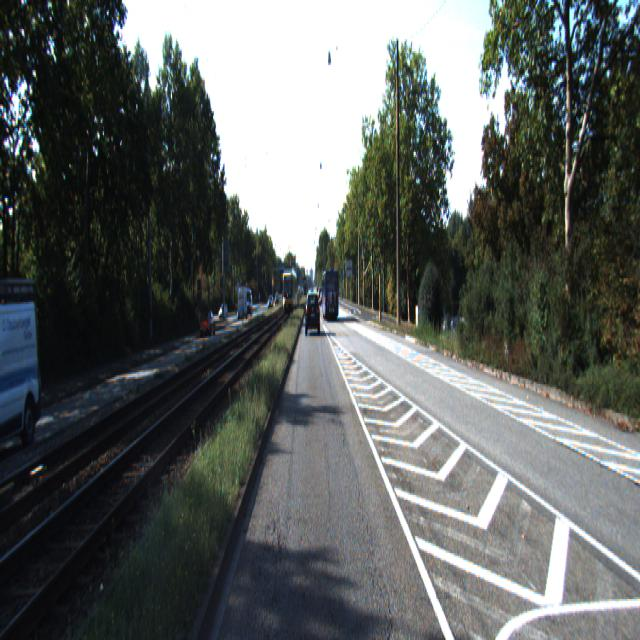Car: (0, 299, 51, 469), (322, 270, 339, 322), (306, 292, 320, 336), (200, 312, 216, 340)
